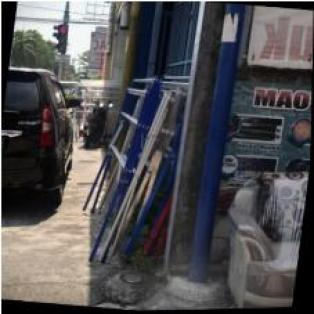Semaforo Rojo: (54, 24, 68, 51)
